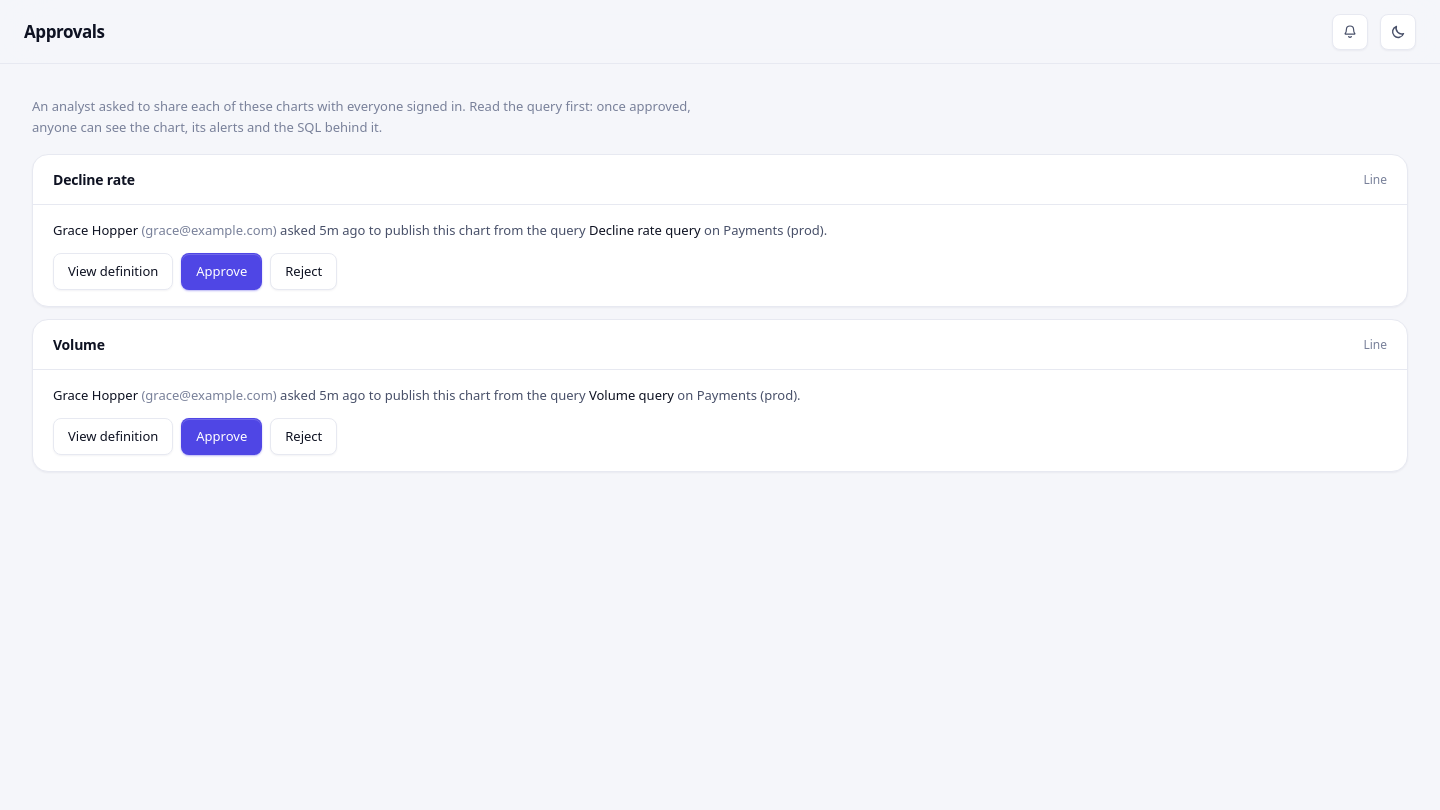
Test: for an administrator › can back out of a rejection without deciding anything
Click the button "Reject" below "Decline rate query" at (304, 272), box [270, 253, 337, 290]
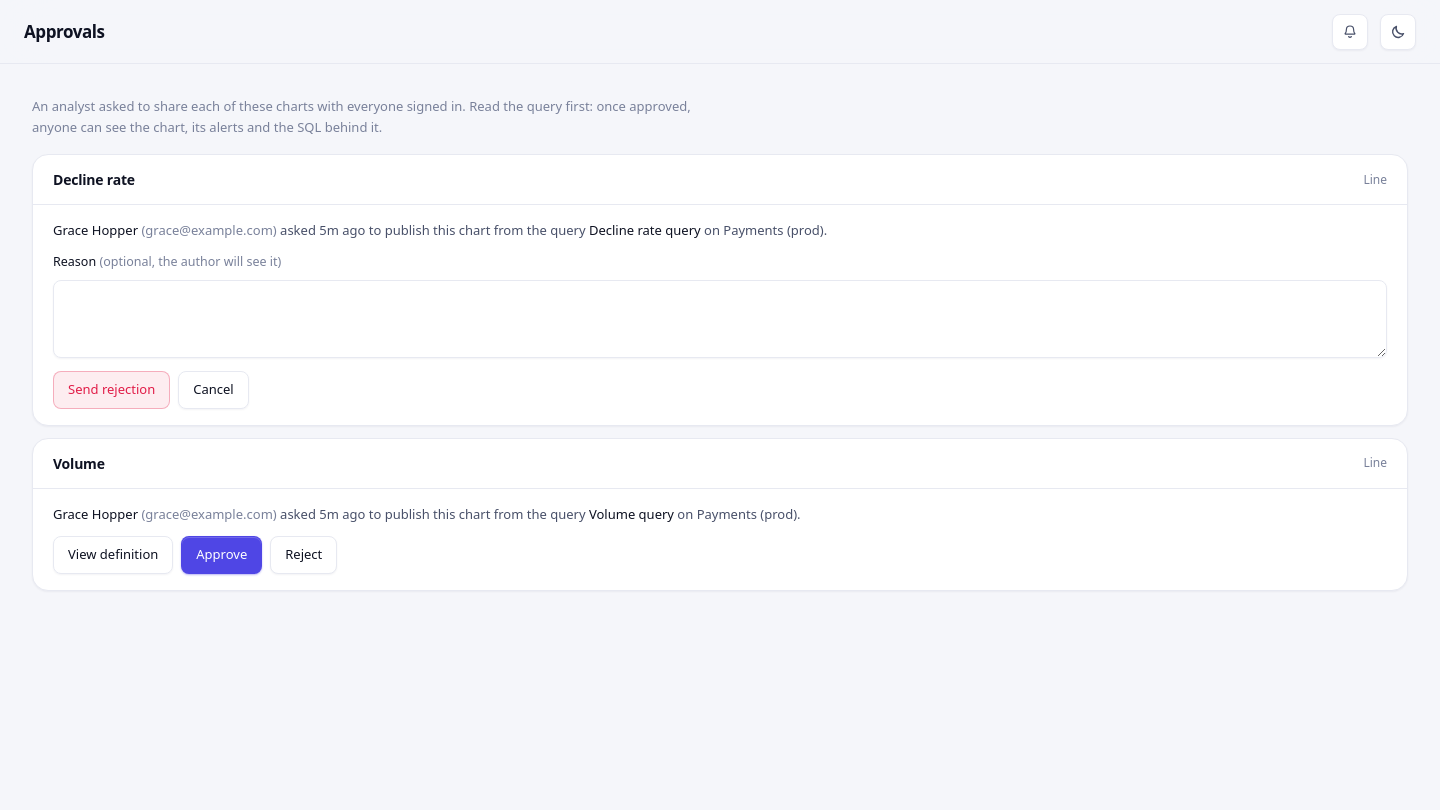
Click the button "Cancel" at (213, 390), box [178, 371, 249, 409]
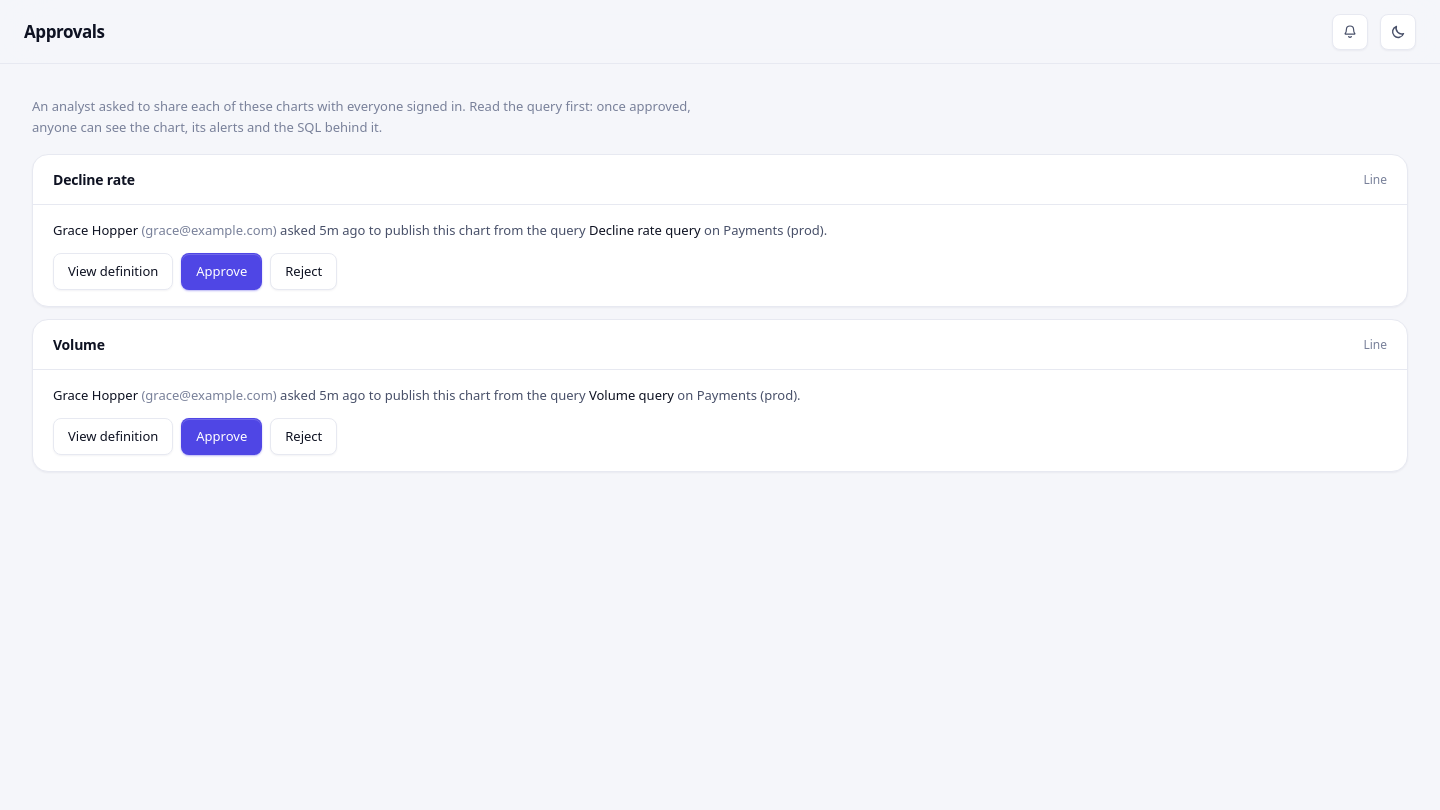
Check: the 1st button "Approve" is shown, box [181, 253, 262, 290]
